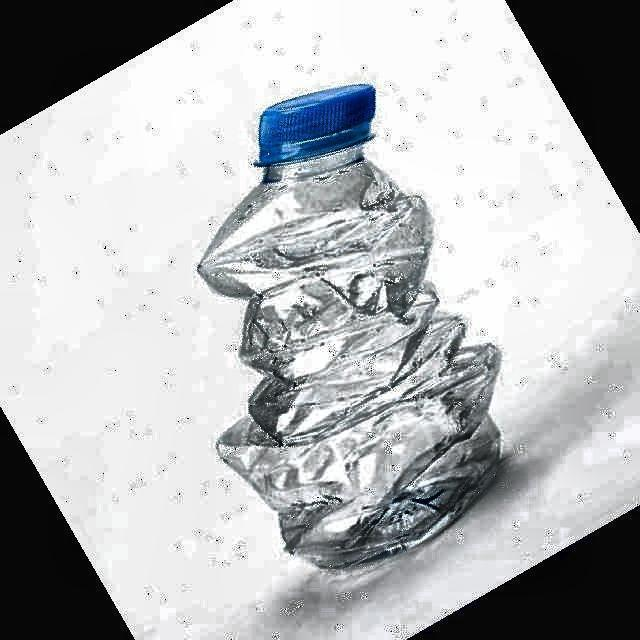plastic: (199, 85, 500, 568)
